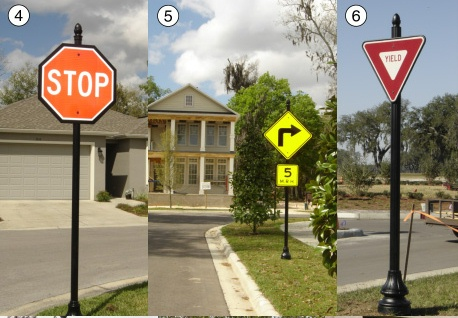stopsign: (38, 44, 114, 122)
